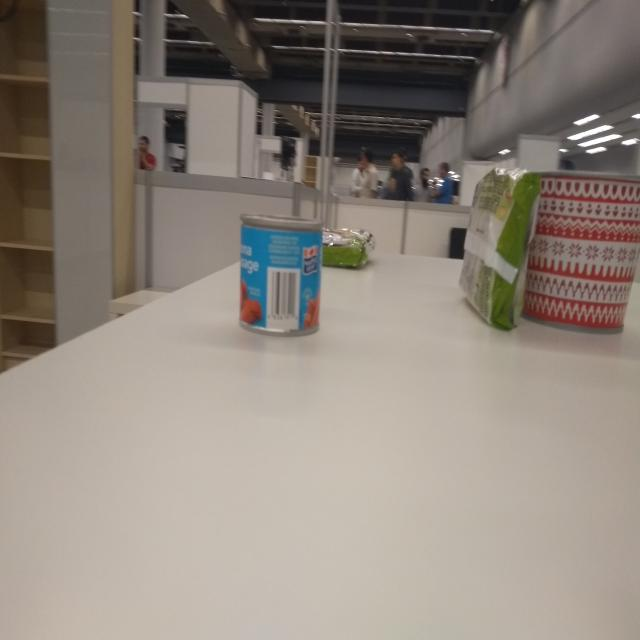noodles: (452, 164, 544, 337)
sausages: (235, 209, 323, 342)
